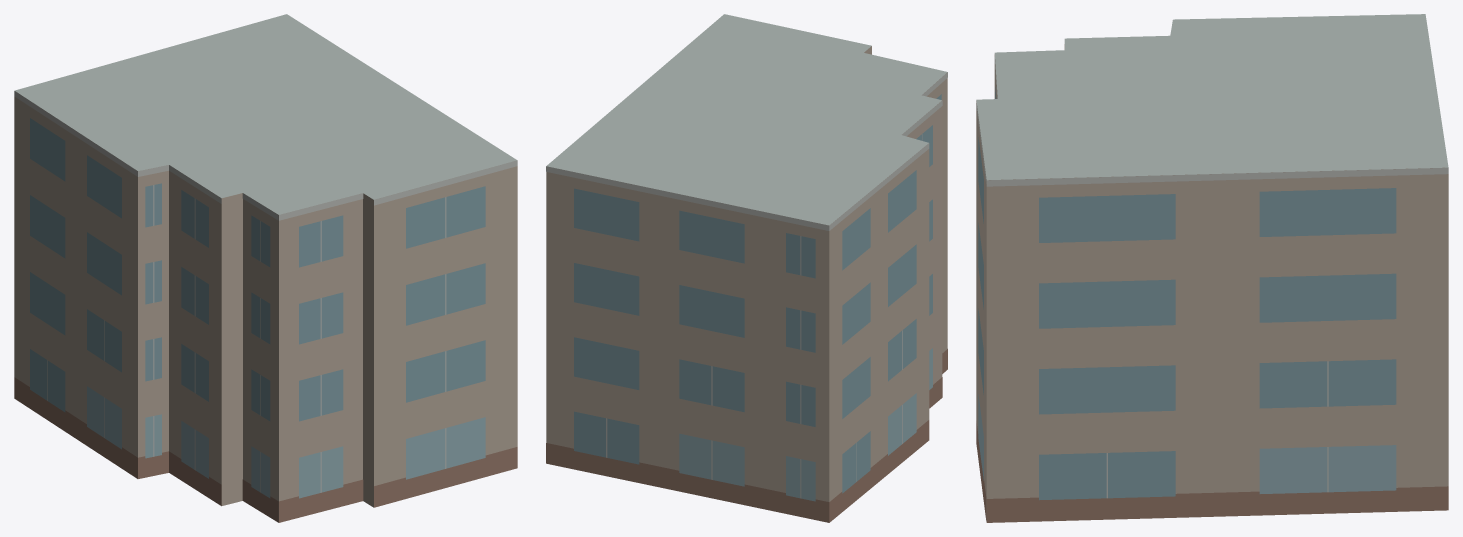
File: survey-upis-32747032.glb
3 views of the same model, side by side, from view 1: azimuth 30°, elevation 25°; view 2: azimuth 150°, elevation 25°; view 3: azimuth 270°, elevation 25° (orthographic). The views are drawn at different scales.
Visible parts, largest first — view 1: survey-upis-32747032.tmp; view 2: survey-upis-32747032.tmp; view 3: survey-upis-32747032.tmp.
Boxes of the visible parts, x1,y1,x2,y2 form: survey-upis-32747032.tmp: (14, 14, 517, 522); survey-upis-32747032.tmp: (546, 14, 947, 522); survey-upis-32747032.tmp: (976, 14, 1448, 522).
Size of the model in its own units: 13.42 by 12.9 by 16.12.
